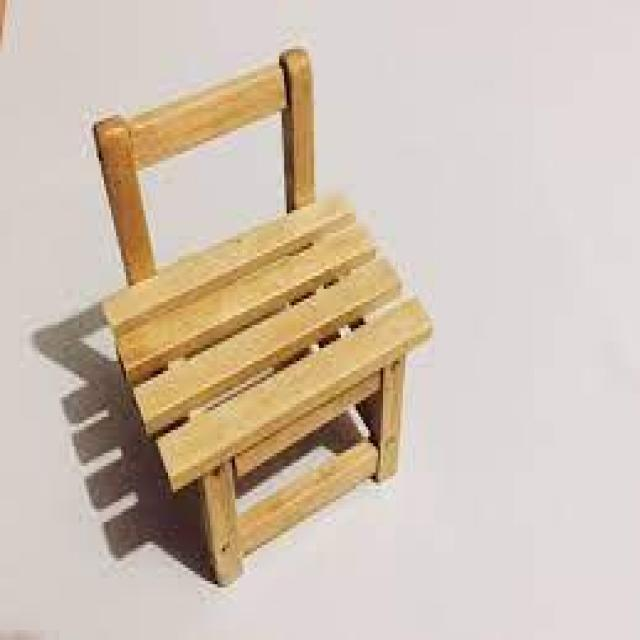chair: (69, 38, 450, 589)
